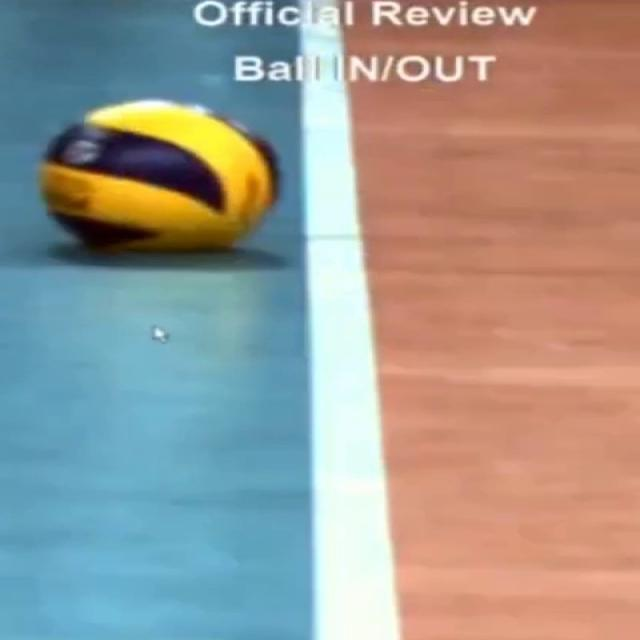Volleyball: (43, 101, 281, 252)
